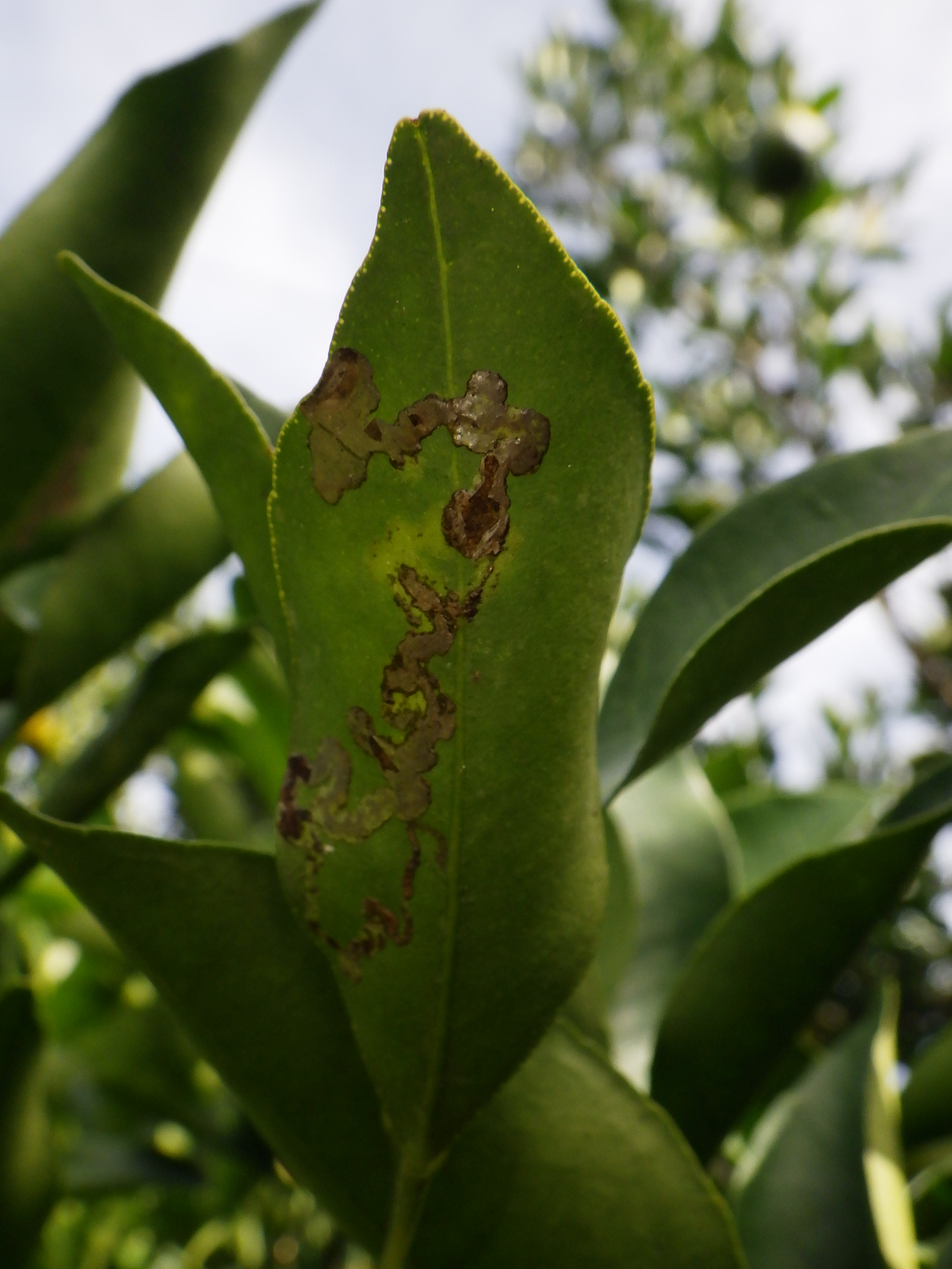Citrus_Leaf_Miner: (278, 348, 550, 980)
